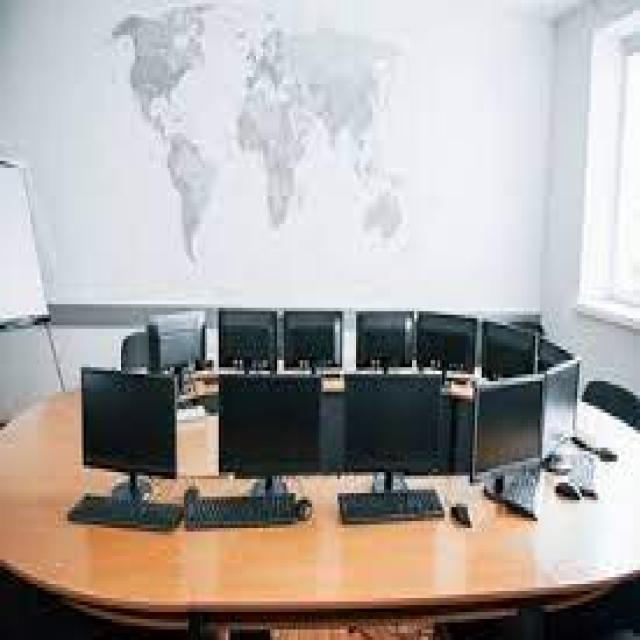komputer: (216, 371, 325, 503), (80, 368, 181, 503), (345, 370, 449, 500), (475, 373, 549, 505)
